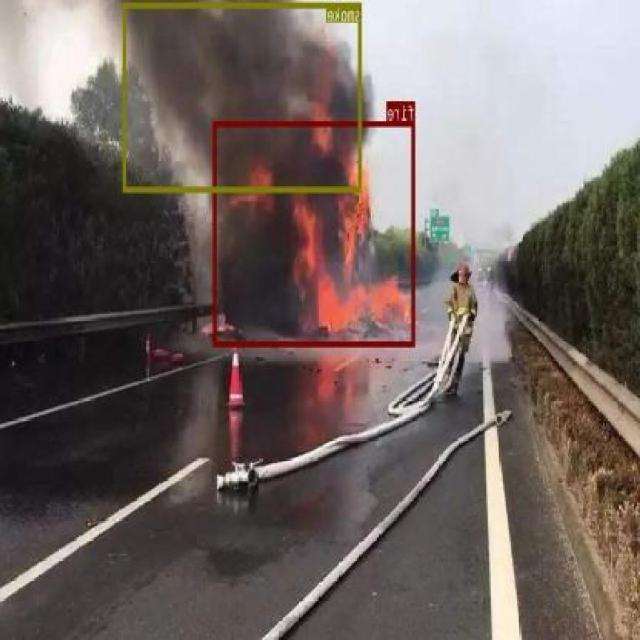Fire: (214, 120, 416, 346)
Smoke: (124, 2, 362, 192)
